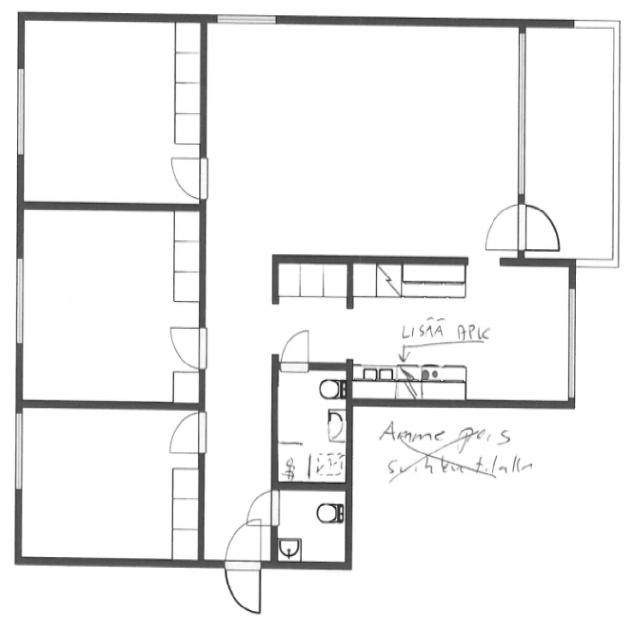door: (220, 513, 267, 620), (480, 200, 567, 254), (164, 147, 211, 201), (165, 408, 210, 461), (165, 321, 210, 372), (274, 322, 315, 373), (243, 487, 283, 532)
window: (506, 25, 533, 205), (565, 286, 580, 400), (12, 63, 28, 159), (12, 252, 28, 346), (212, 7, 281, 28), (12, 407, 25, 494)
zone: (204, 20, 522, 259), (17, 206, 208, 405), (18, 16, 207, 208), (345, 259, 576, 404), (19, 409, 205, 563), (518, 20, 616, 266), (274, 364, 350, 486), (272, 258, 351, 367), (272, 486, 350, 569)
